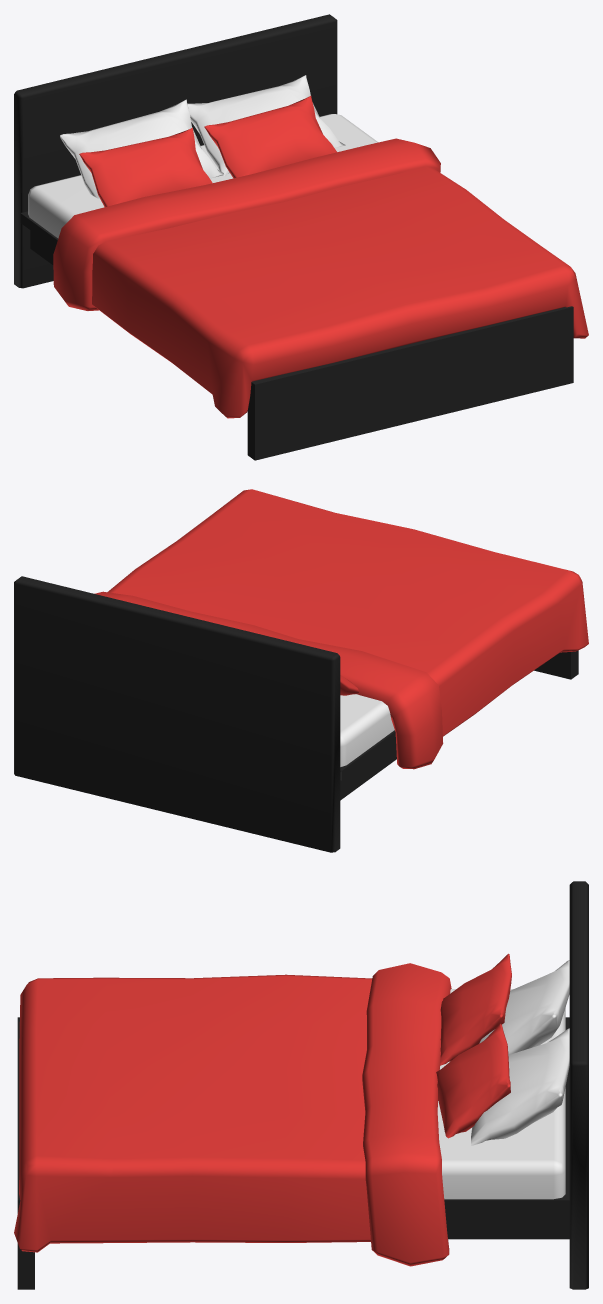
The model's file is bed_022.fbx.
3 views of the same model, one above another, from view 1: azimuth 30°, elevation 25°; view 2: azimuth 150°, elevation 25°; view 3: azimuth 270°, elevation 25° (orthographic). The views are drawn at different scales.
Visible parts, largest first — view 1: bed_022; view 2: bed_022; view 3: bed_022.
Part boxes in pixels (<box>): bed_022: <box>14,14,588,460</box>; bed_022: <box>14,489,588,852</box>; bed_022: <box>14,881,588,1289</box>.
Bounding box in the file's own units: 219 × 254 × 111.
